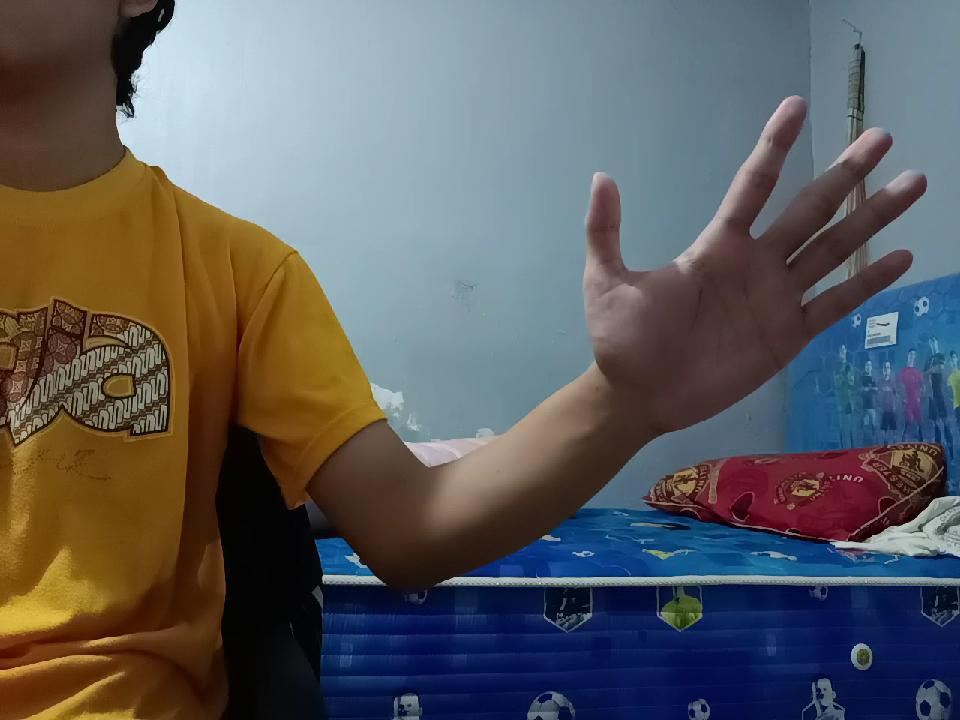paper: (564, 92, 901, 434)
